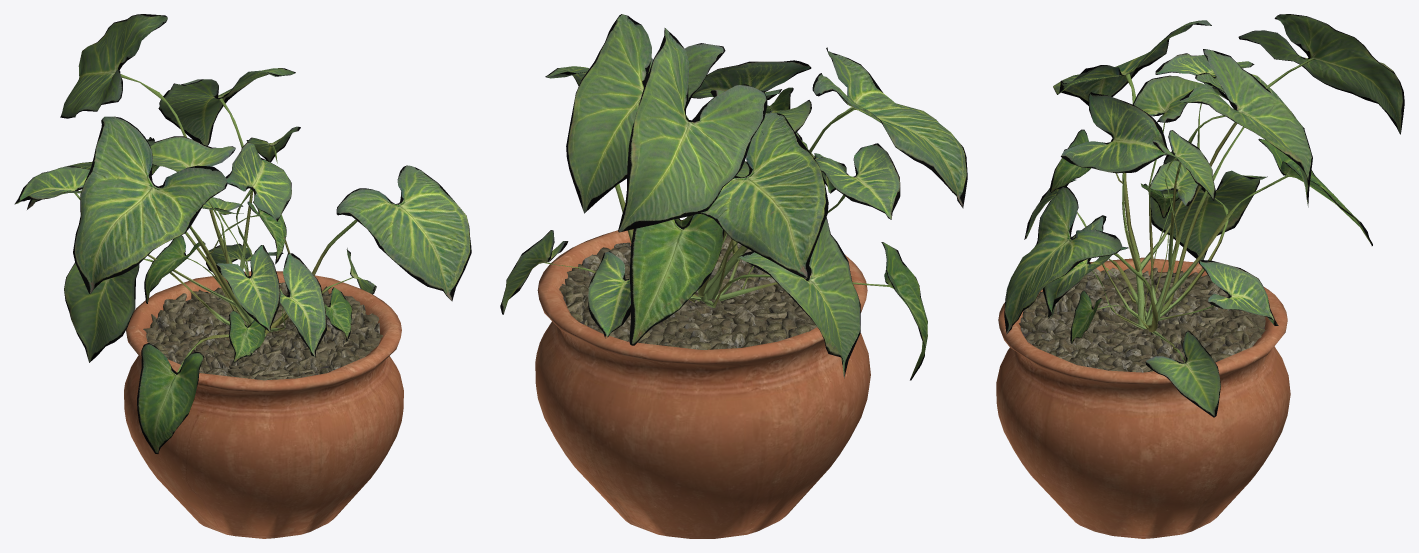
The model's file is plant.glb.
The picture shows the model from 3 angles, left to right: view 1: azimuth 30°, elevation 25°; view 2: azimuth 150°, elevation 25°; view 3: azimuth 270°, elevation 25°; orthographic projection. The views are drawn at different scales.
Parts seen in each view (by area): view 1: potted_plant_02_leaves, potted_plant_02_pot, potted_plant_02_dirt; view 2: potted_plant_02_leaves, potted_plant_02_pot, potted_plant_02_dirt; view 3: potted_plant_02_leaves, potted_plant_02_pot, potted_plant_02_dirt.
Part boxes in pixels (x1=…): potted_plant_02_leaves: x1=14, y1=14, x2=471, y2=453; potted_plant_02_pot: x1=124, y1=271, x2=403, y2=538; potted_plant_02_dirt: x1=143, y1=282, x2=382, y2=380; potted_plant_02_leaves: x1=500, y1=14, x2=967, y2=380; potted_plant_02_pot: x1=535, y1=220, x2=870, y2=538; potted_plant_02_dirt: x1=559, y1=233, x2=816, y2=349; potted_plant_02_leaves: x1=1004, y1=14, x2=1404, y2=417; potted_plant_02_pot: x1=996, y1=257, x2=1290, y2=538; potted_plant_02_dirt: x1=1019, y1=267, x2=1265, y2=372.
Size of the model in its own units: 0.4498 by 0.5395 by 0.4211.
2 materials, 2 textured.
